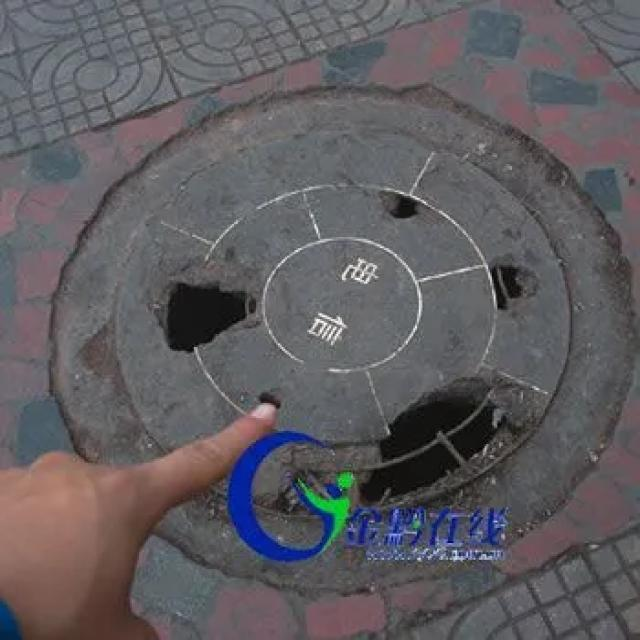manhole: (47, 84, 633, 615)
